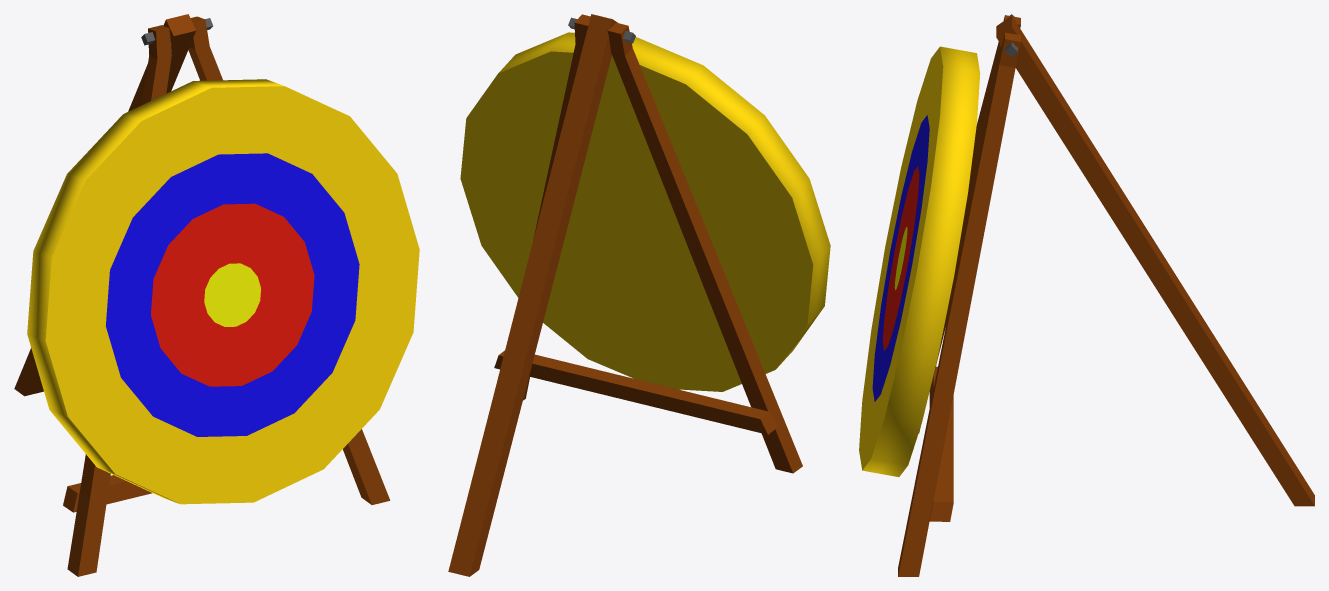
The model's file is mesh_target_yellow.fbx.
3 renders of one model, left to right at view 1: azimuth 30°, elevation 25°; view 2: azimuth 150°, elevation 25°; view 3: azimuth 270°, elevation 25°, orthographic. The views are drawn at different scales.
Visible parts, largest first — view 1: mesh_target_yellow; view 2: mesh_target_yellow; view 3: mesh_target_yellow.
Boxes of the visible parts, x1,y1,x2,y2 form: mesh_target_yellow: (14, 14, 419, 576); mesh_target_yellow: (448, 14, 830, 576); mesh_target_yellow: (859, 14, 1314, 576).
Size of the model in its own units: 98.75 by 121 by 104.
